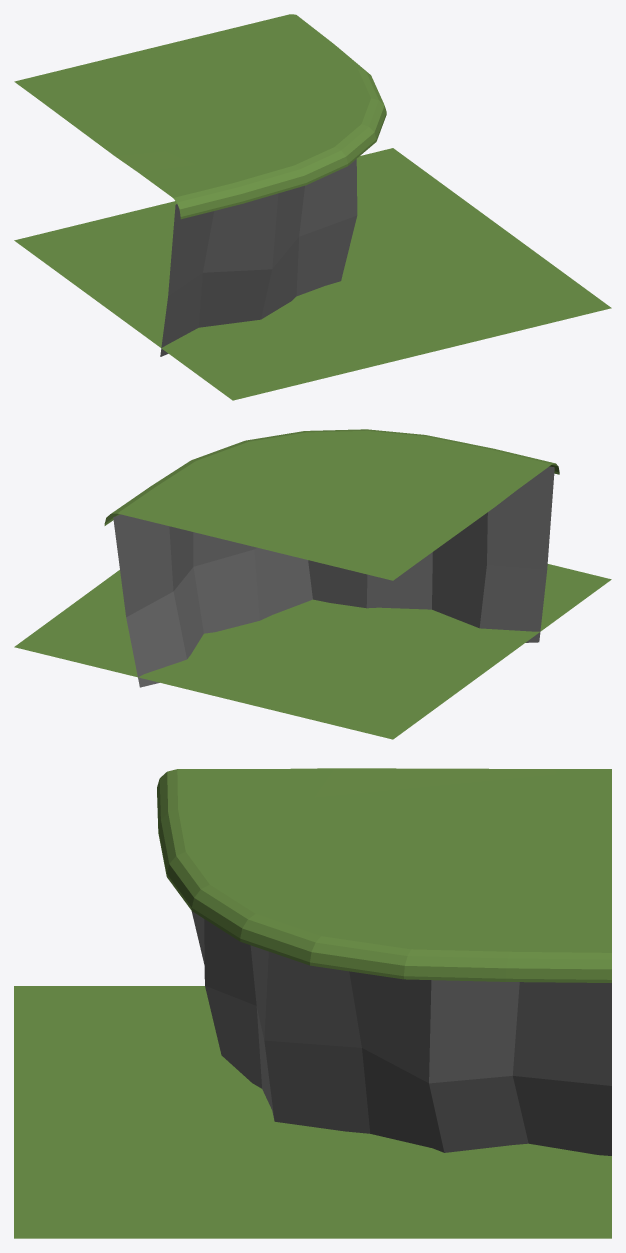
Rendered from cliff_outer_corner_L1.fbx.
The picture shows the model from 3 angles, top to bottom: view 1: azimuth 30°, elevation 25°; view 2: azimuth 150°, elevation 25°; view 3: azimuth 270°, elevation 25°; orthographic projection. The views are drawn at different scales.
Parts seen in each view (by area): view 1: Cube.032; view 2: Cube.032; view 3: Cube.032.
Part boxes in pixels (x1,y1,x2,y2): Cube.032: (14,14,611,400); Cube.032: (14,429,611,739); Cube.032: (14,768,611,1238).
Size of the model in its own units: 201 by 200 by 92.14.
